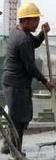boots: (8, 150, 26, 160)
gloves: (0, 98, 8, 116), (0, 101, 8, 116)
hard-hat: (0, 0, 17, 15)
